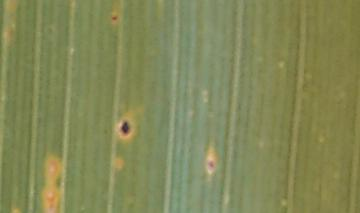tarspot: (121, 121, 130, 135), (207, 159, 214, 171), (110, 13, 119, 21)
